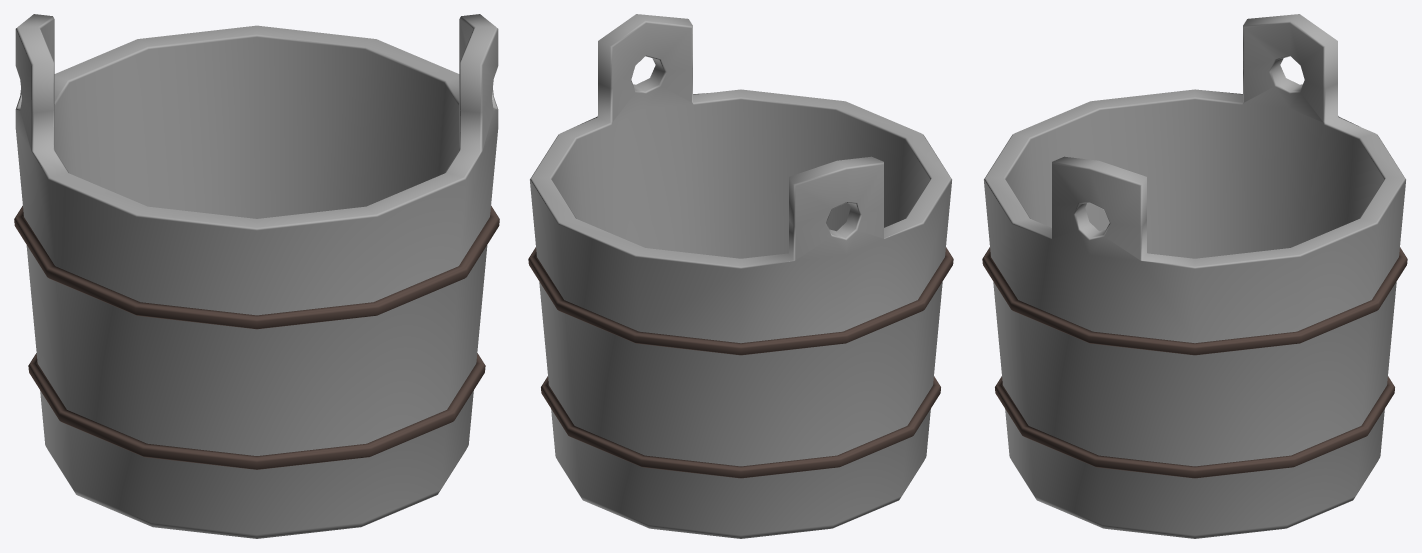
Rendered from Cubo.fbx.
3 renders of one model, left to right at view 1: azimuth 30°, elevation 25°; view 2: azimuth 150°, elevation 25°; view 3: azimuth 270°, elevation 25°, orthographic. The views are drawn at different scales.
Parts seen in each view (by area): view 1: pCylinder5; view 2: pCylinder5; view 3: pCylinder5.
Part boxes in pixels (x1,y1,x2,y2): pCylinder5: [14, 14, 499, 538]; pCylinder5: [528, 14, 953, 538]; pCylinder5: [982, 14, 1407, 538].
Bounding box in the file's own units: 68.58 × 66.39 × 68.58.
